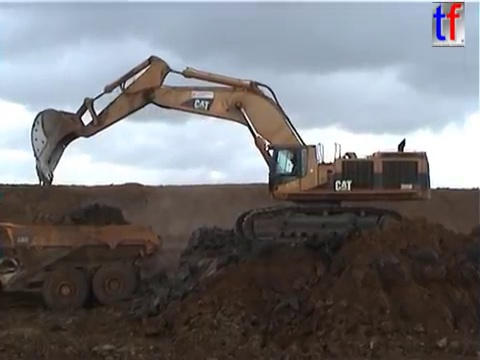excavator: (27, 52, 433, 249)
truck: (1, 216, 164, 311)
